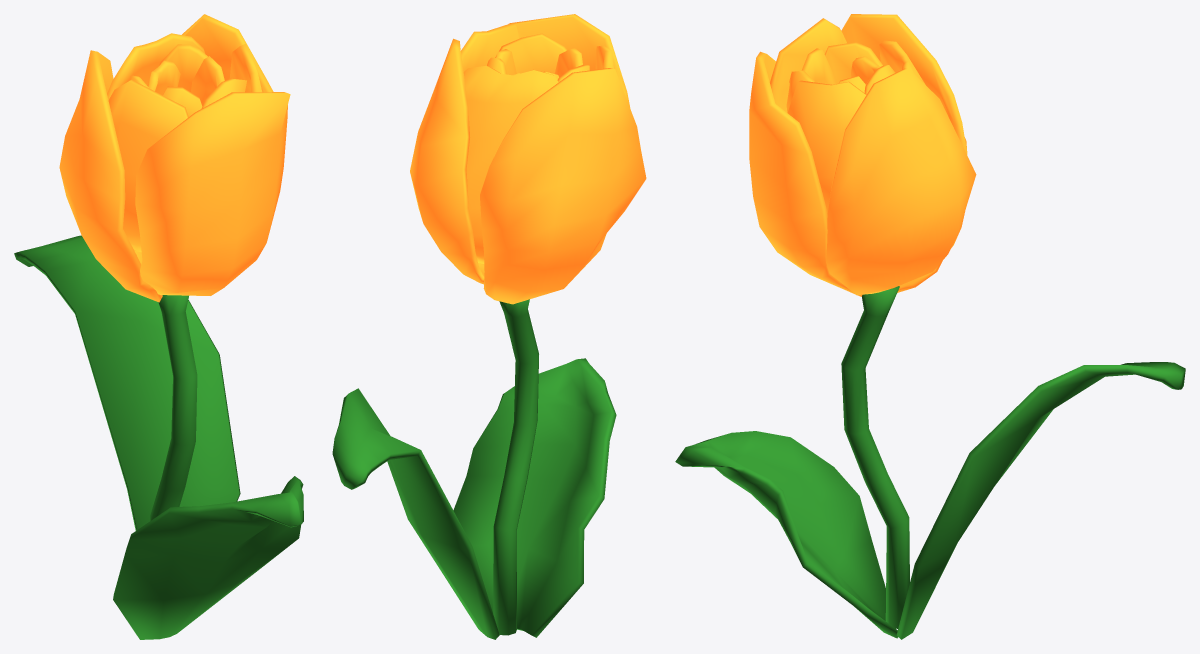
Rendered from Tulp2.fbx.
3 renders of one model, left to right at view 1: azimuth 30°, elevation 25°; view 2: azimuth 150°, elevation 25°; view 3: azimuth 270°, elevation 25°, orthographic. The views are drawn at different scales.
Visible parts, largest first — view 1: Cylinder.010; view 2: Cylinder.010; view 3: Cylinder.010.
Part boxes in pixels (box(x1,y1,x2,y2)): Cylinder.010: box(14, 14, 303, 639); Cylinder.010: box(332, 14, 646, 639); Cylinder.010: box(675, 14, 1185, 639).
Bounding box in the file's own units: 0.3065 × 0.9055 × 0.7186.
